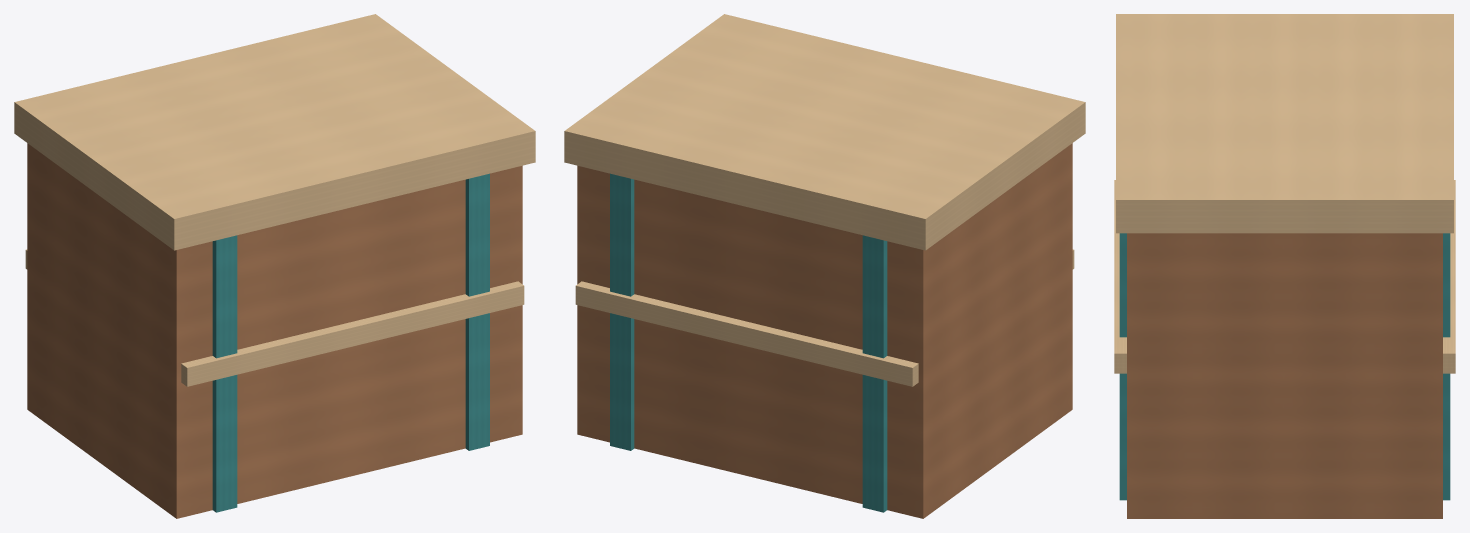
File: atlas100-desertdeco-util02.lod1.glb
The picture shows the model from 3 angles, left to right: view 1: azimuth 30°, elevation 25°; view 2: azimuth 150°, elevation 25°; view 3: azimuth 270°, elevation 25°; orthographic projection. The views are drawn at different scales.
Visible parts, largest first — view 1: atlas100-desertdeco-util02:part-000, atlas100-desertdeco-util02:part-005, atlas100-desertdeco-util02:part-004, atlas100-desertdeco-util02:part-001, atlas100-desertdeco-util02:part-002; view 2: atlas100-desertdeco-util02:part-000, atlas100-desertdeco-util02:part-005, atlas100-desertdeco-util02:part-003, atlas100-desertdeco-util02:part-001, atlas100-desertdeco-util02:part-002; view 3: atlas100-desertdeco-util02:part-000, atlas100-desertdeco-util02:part-005, atlas100-desertdeco-util02:part-002, atlas100-desertdeco-util02:part-003, atlas100-desertdeco-util02:part-004.
Boxes of the visible parts, x1,y1,x2,y2 form: atlas100-desertdeco-util02:part-000: (27,143,522,518); atlas100-desertdeco-util02:part-005: (14,14,535,250); atlas100-desertdeco-util02:part-004: (181,281,524,386); atlas100-desertdeco-util02:part-001: (212,235,237,512); atlas100-desertdeco-util02:part-002: (465,173,489,450); atlas100-desertdeco-util02:part-000: (577,143,1072,518); atlas100-desertdeco-util02:part-005: (564,14,1085,250); atlas100-desertdeco-util02:part-003: (575,281,918,386); atlas100-desertdeco-util02:part-001: (862,235,887,512); atlas100-desertdeco-util02:part-002: (610,173,634,450); atlas100-desertdeco-util02:part-000: (1127,233,1442,518); atlas100-desertdeco-util02:part-005: (1116,14,1453,233); atlas100-desertdeco-util02:part-002: (1119,233,1450,500); atlas100-desertdeco-util02:part-003: (1443,180,1455,373); atlas100-desertdeco-util02:part-004: (1114,180,1126,373).
Bounding box in the file's own units: 1.26 × 1.01 × 0.9728.
Materials: 3 (3 with a texture image).
